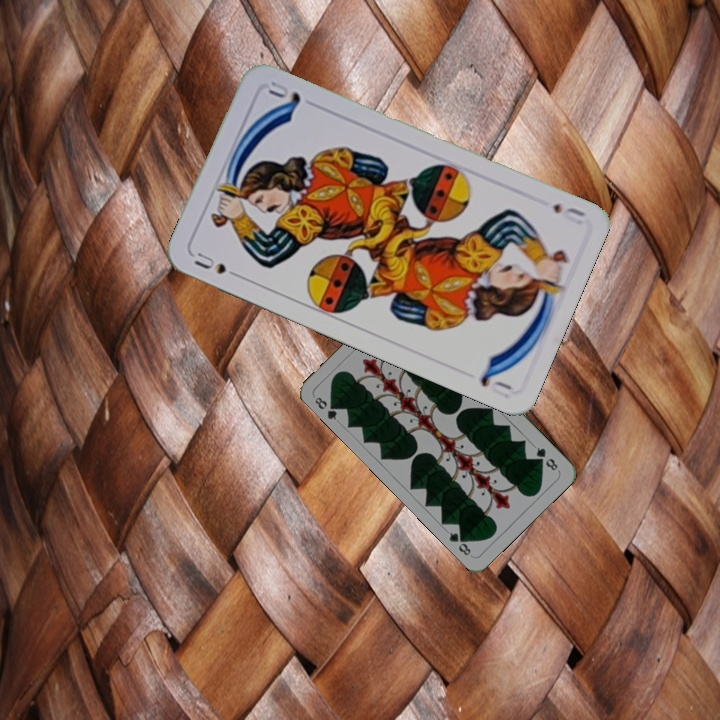G8: (311, 393, 342, 423), (532, 443, 561, 473)
SU: (190, 248, 245, 281), (549, 199, 588, 228)
